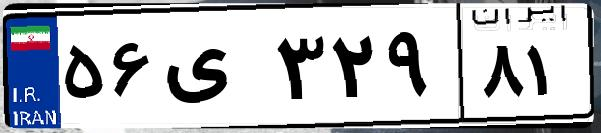1: (525, 38, 570, 115)
2: (330, 28, 385, 110)
3: (270, 28, 330, 110)
5: (57, 26, 110, 100)
6: (110, 28, 158, 98)
8: (475, 38, 525, 113)
9: (385, 28, 445, 110)
ی: (158, 20, 270, 120)
